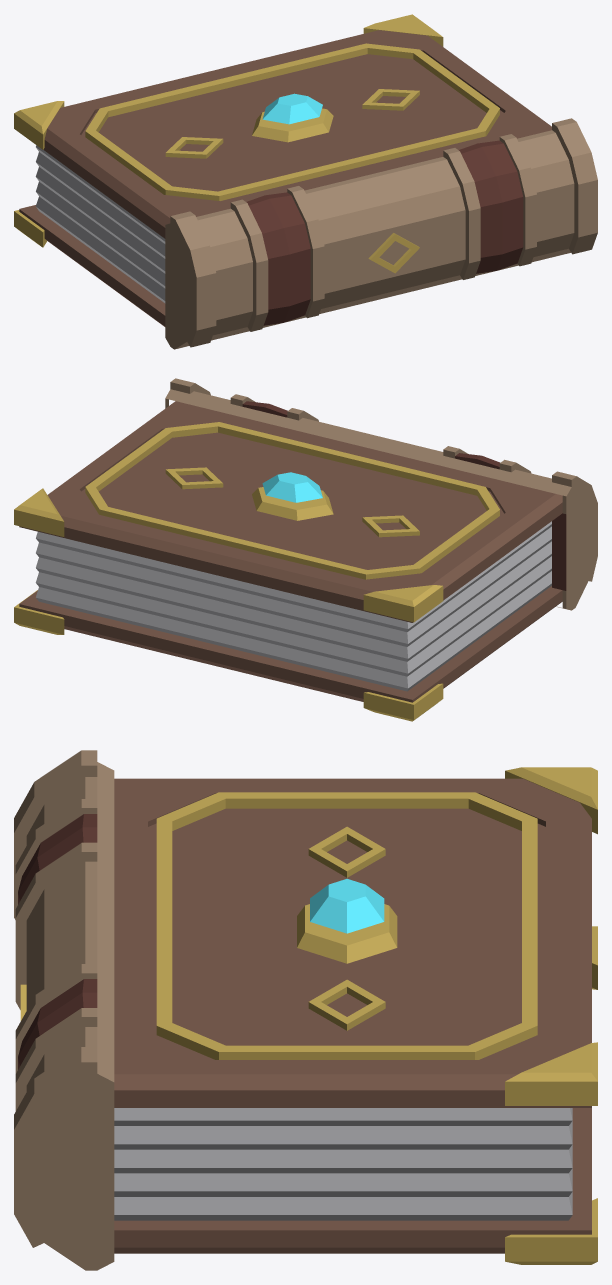
The model's file is spellbook-1e8dfe.glb.
The picture shows the model from 3 angles, top to bottom: view 1: azimuth 30°, elevation 25°; view 2: azimuth 150°, elevation 25°; view 3: azimuth 270°, elevation 25°; orthographic projection. The views are drawn at different scales.
Parts seen in each view (by area): view 1: cover-front, object 2, object 1; view 2: cover-front, object 1, object 2; view 3: cover-front, object 1, object 2.
Boxes of the visible parts, x1=… form: cover-front: x1=14, y1=14, x2=551, y2=238; object 2: x1=14, y1=118, x2=597, y2=349; object 1: x1=19, y1=140, x2=523, y2=326; cover-front: x1=14, y1=401, x2=562, y2=622; object 1: x1=19, y1=401, x2=566, y2=702; object 2: x1=14, y1=378, x2=597, y2=721; cover-front: x1=114, y1=767, x2=597, y2=1107; object 1: x1=18, y1=814, x2=591, y2=1253; object 2: x1=14, y1=750, x2=597, y2=1270.
Size of the model in its own units: 0.306 by 0.1025 by 0.2421.
